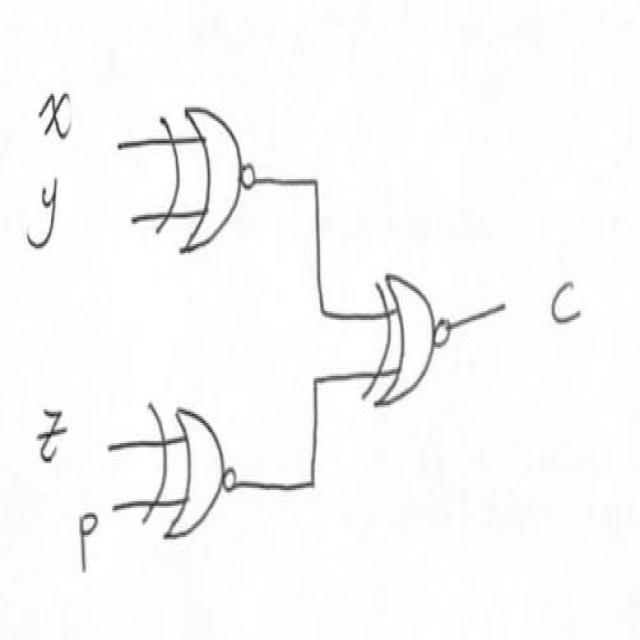XNOR: (137, 374, 241, 564), (147, 98, 258, 264), (362, 260, 461, 437)
